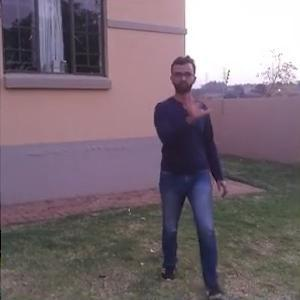follow_hand: (185, 85, 211, 121)
